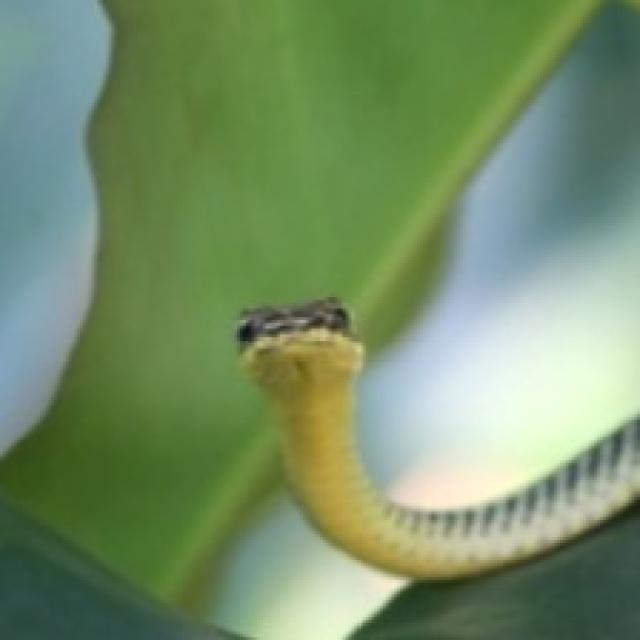paradise tree snake: (360, 14, 637, 534), (237, 297, 637, 577), (214, 503, 403, 637)
